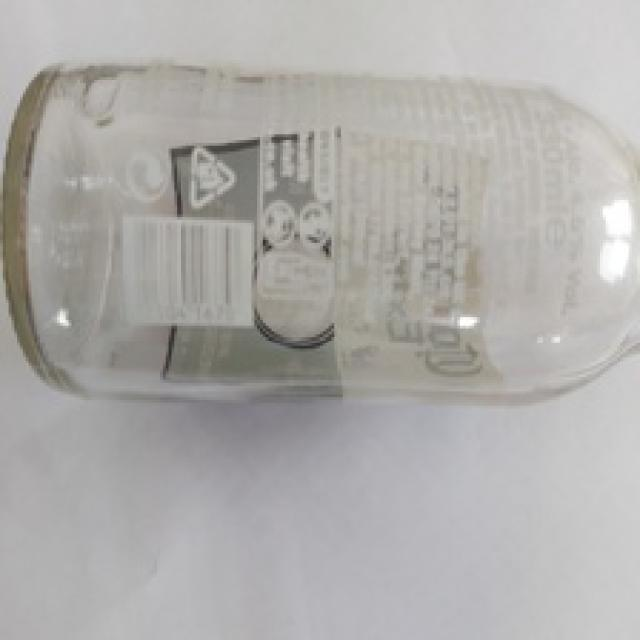Glass: (2, 65, 640, 402)
